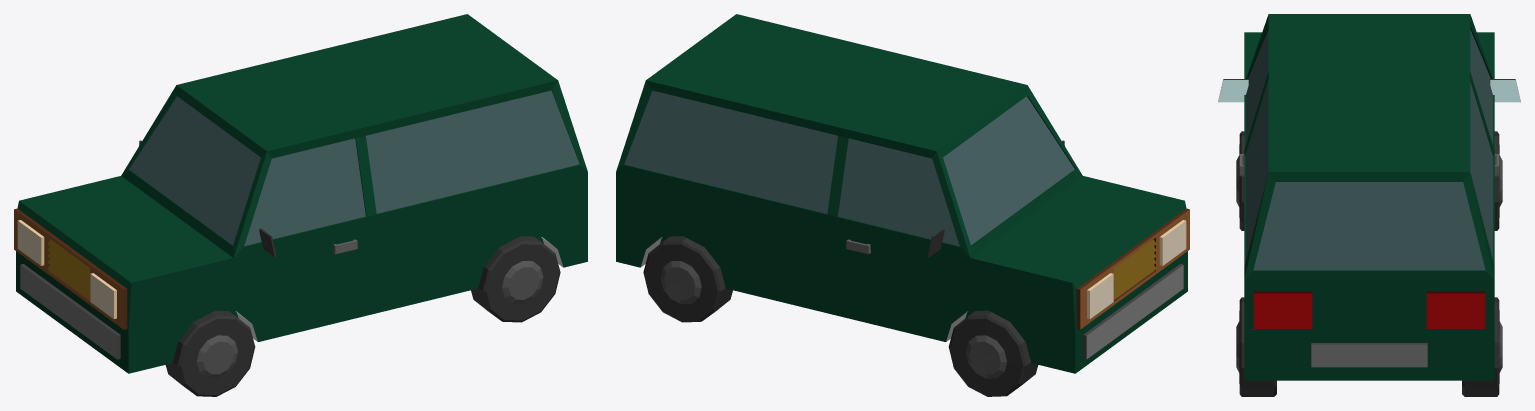
Rendered from vanCar.glb.
3 renders of one model, left to right at view 1: azimuth 30°, elevation 25°; view 2: azimuth 150°, elevation 25°; view 3: azimuth 270°, elevation 25°, orthographic. The views are drawn at different scales.
Parts seen in each view (by area): view 1: Van; view 2: Van; view 3: Van.
Boxes of the visible parts, left/top/right/bottom form: Van: left=14, top=14, right=587, bottom=396; Van: left=616, top=14, right=1189, bottom=396; Van: left=1218, top=14, right=1520, bottom=396.
Bounding box in the file's own units: 3.62 × 1.63 × 1.81.
1 material, 1 textured.
